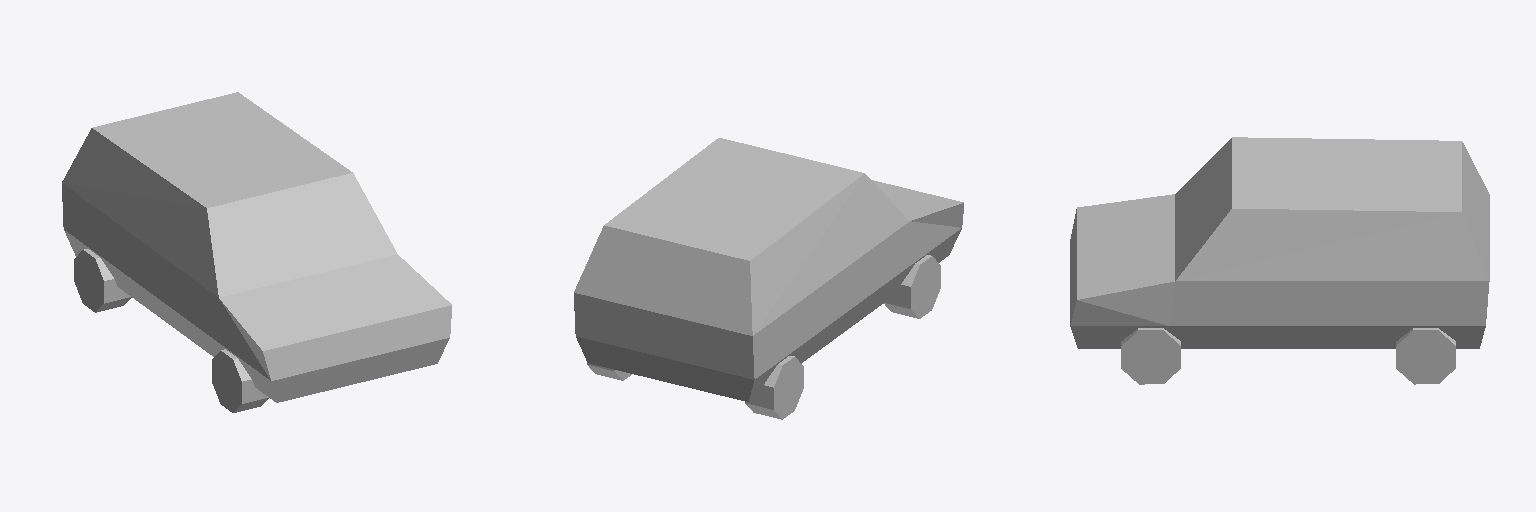
Rendered from carro.obj.
3 views of the same model, side by side, from view 1: azimuth 30°, elevation 25°; view 2: azimuth 150°, elevation 25°; view 3: azimuth 270°, elevation 25° (orthographic).
Visible parts, largest first — view 1: Cube; view 2: Cube; view 3: Cube.
Boxes of the visible parts, box(x1,y1,x2,y2) form: Cube: box(62, 92, 451, 412); Cube: box(574, 138, 963, 419); Cube: box(1070, 137, 1489, 384).
Size of the model in its own units: 4.34 by 3.64 by 8.32.